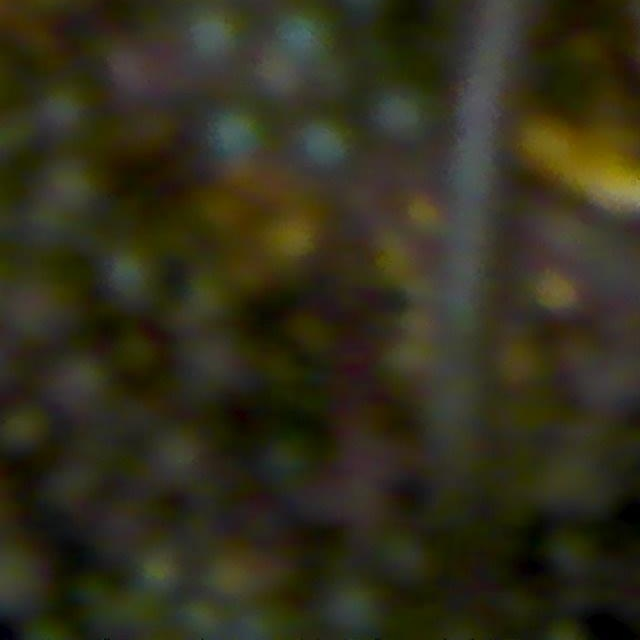SeaGrape: (31, 157, 103, 231), (266, 6, 336, 76), (46, 352, 113, 422), (145, 423, 211, 491), (184, 5, 244, 69), (33, 82, 94, 144), (103, 246, 160, 310), (322, 579, 384, 637), (370, 86, 430, 144), (206, 106, 268, 162), (296, 117, 352, 173), (545, 527, 598, 580), (542, 619, 585, 640)
